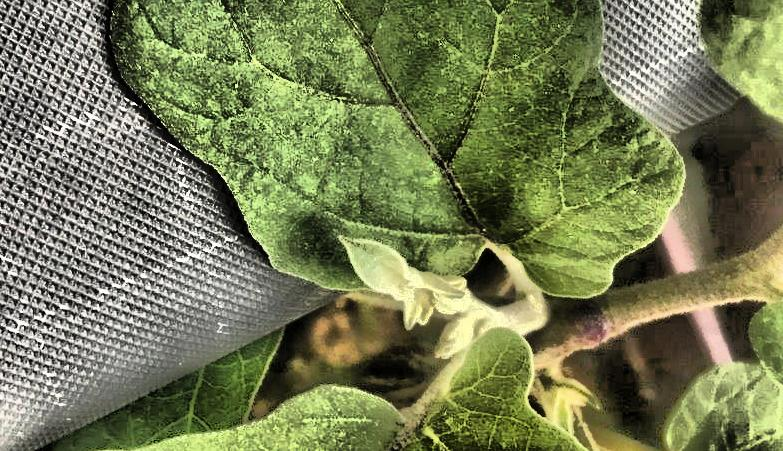HEALTHY: (0, 121, 487, 451)
